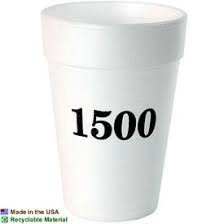paper_cup: (35, 0, 191, 224)
